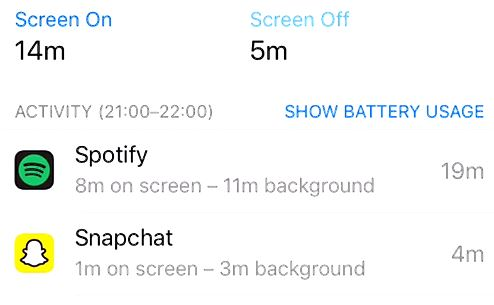activity: (10, 97, 227, 125)
app: (4, 142, 489, 203), (1, 223, 485, 284)
